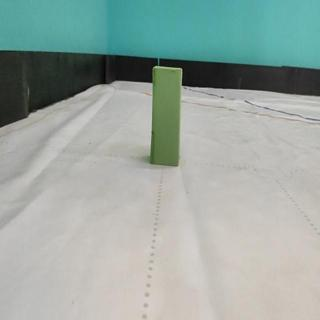greenbox: (149, 65, 183, 170)
